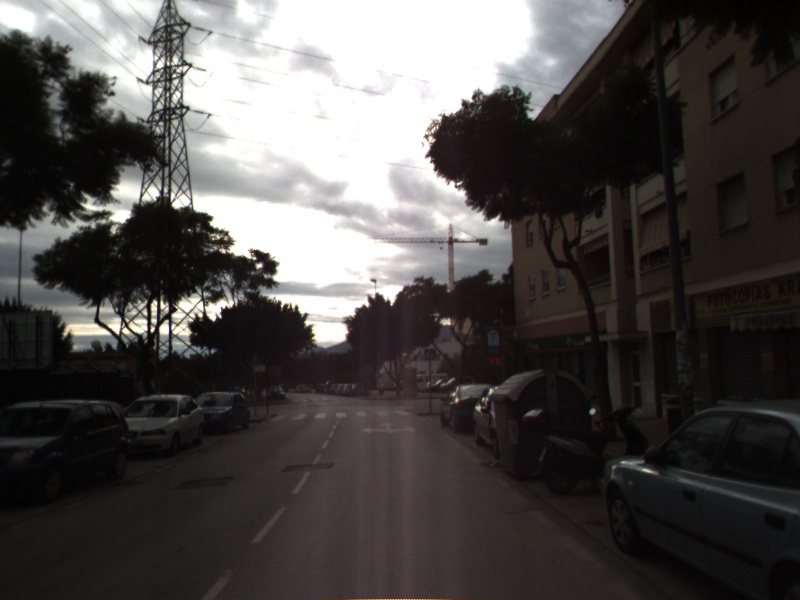STRAIGHT_LEFT_RIGHT: (359, 420, 420, 436)
